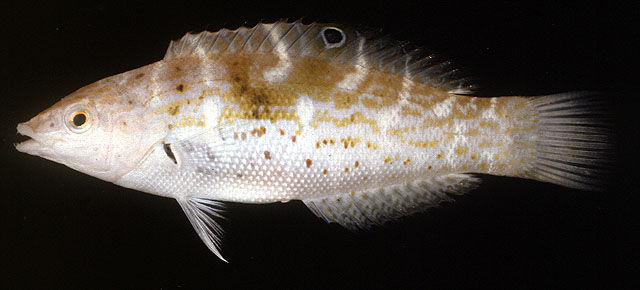fish: (18, 20, 603, 264)
